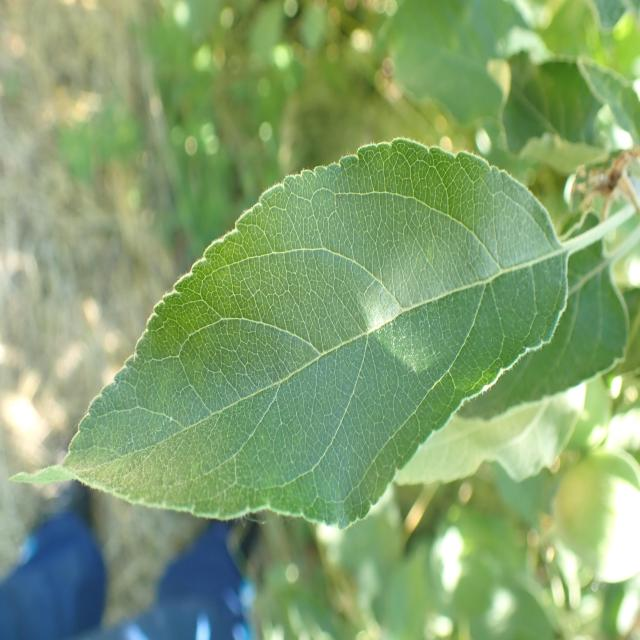healthy: (7, 137, 569, 529), (455, 211, 631, 419)
